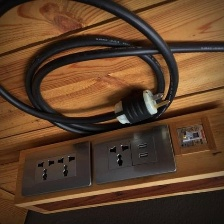three_eye_plug: (89, 119, 180, 188), (16, 136, 93, 201)
